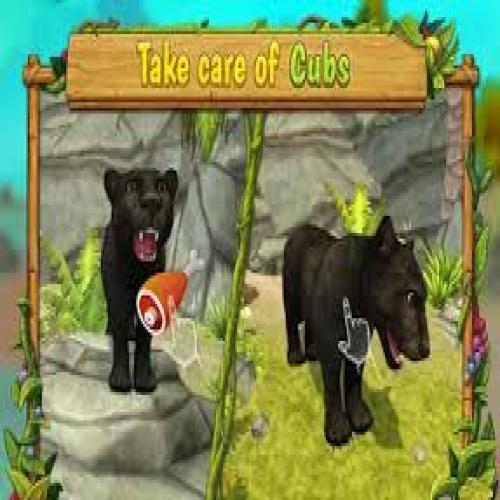panther-endangered: (281, 212, 432, 447), (99, 167, 178, 396)
